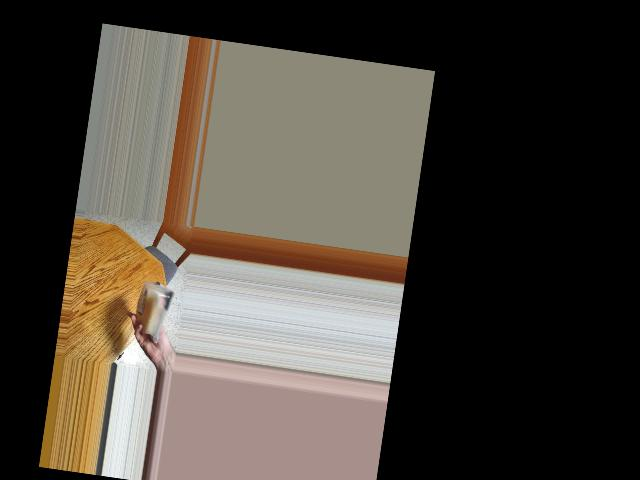cheese: (134, 283, 170, 334)
